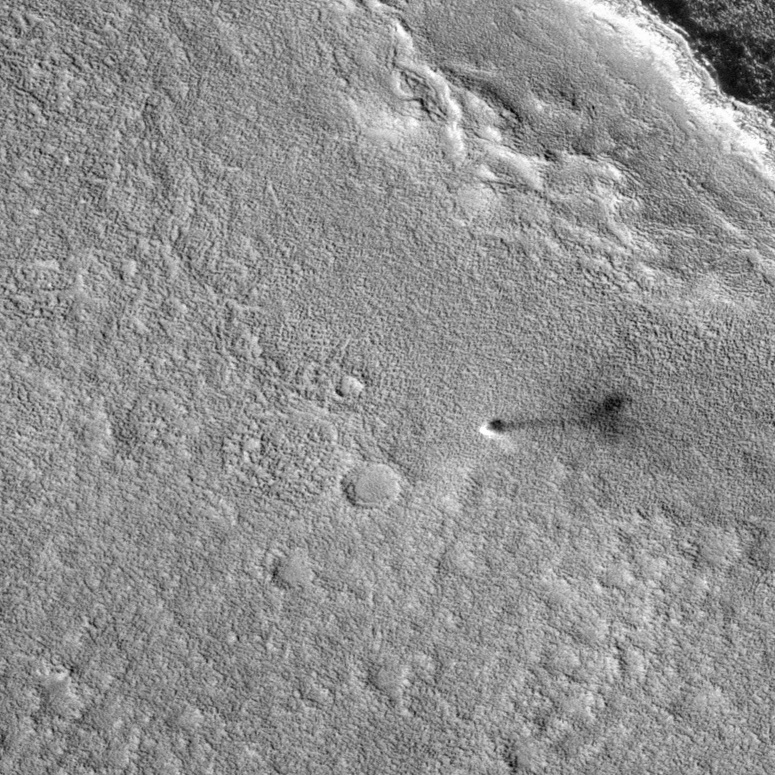dust_devil: (476, 392, 632, 443)
